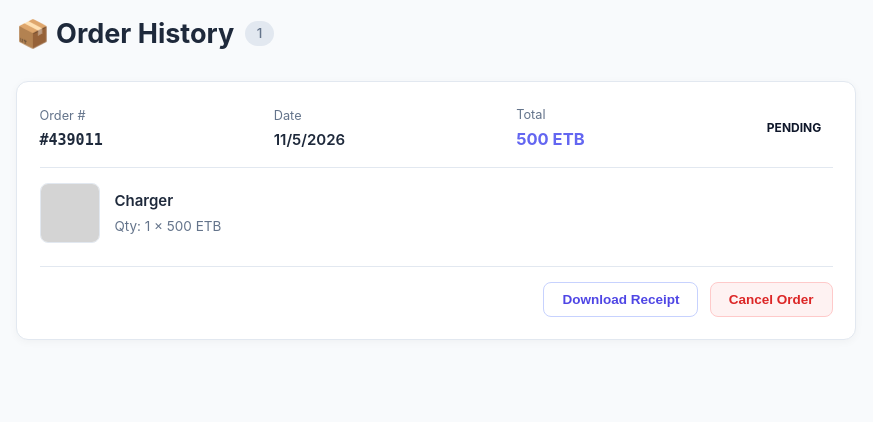
Test case: Order history receipt download › shows an error notification when the receipt download fails
The image size is (873, 422).
Click the button "Download Receipt": point(621, 299) [543, 282, 698, 317]
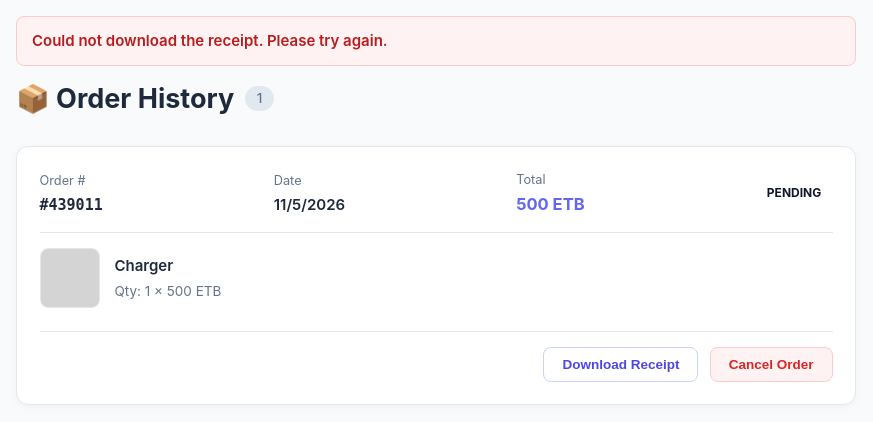
Expected: the button "Download Receipt" is enabled, [543, 347, 698, 382]
Expected: the message reads "Could not download the receipt. Please try again.", [32, 31, 388, 50]
